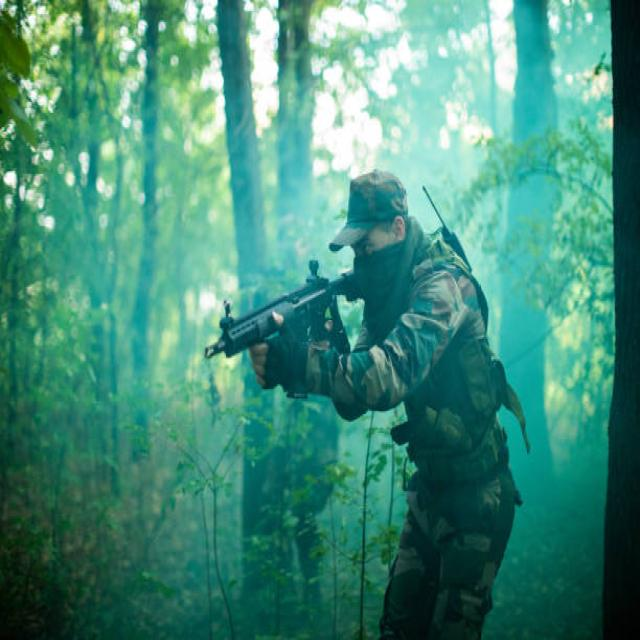soldier: (205, 133, 536, 640)
